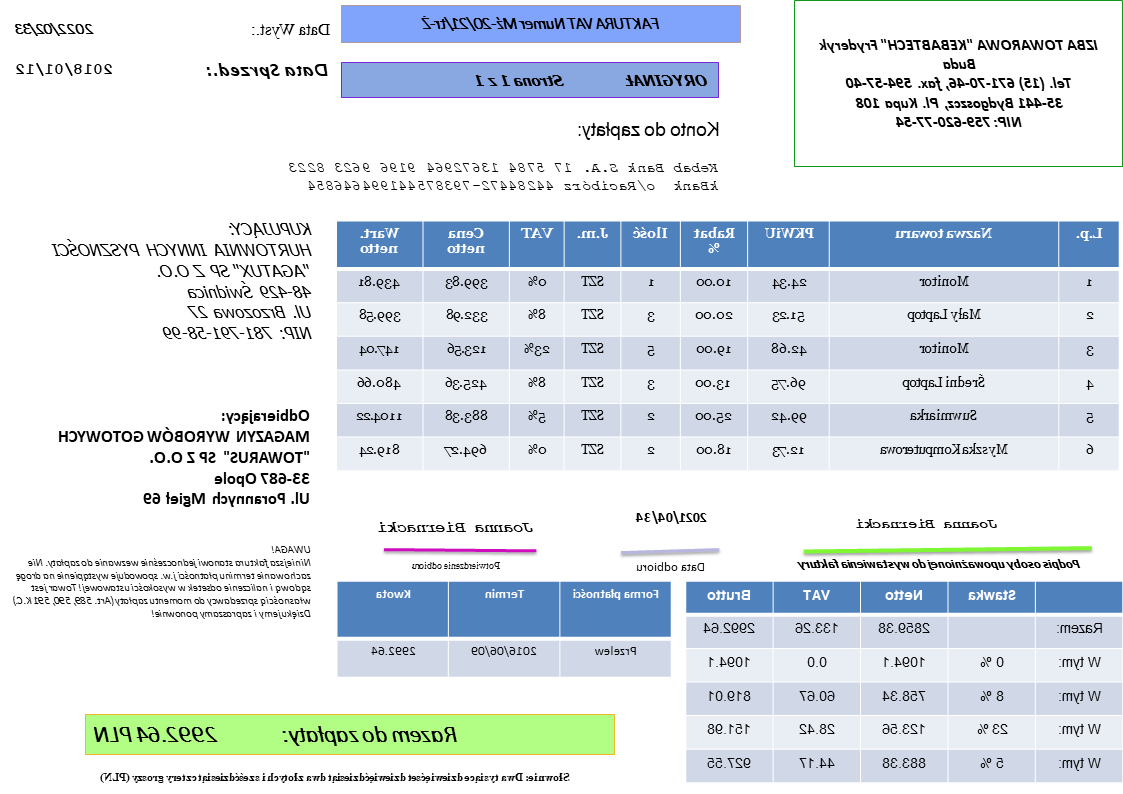Table: (336, 220, 1121, 471), (684, 580, 1122, 783), (337, 581, 672, 678)
TextBox: (50, 218, 315, 343), (816, 36, 1100, 132), (56, 406, 312, 510), (10, 541, 313, 621), (285, 159, 720, 195), (92, 723, 460, 749), (98, 769, 573, 786), (419, 14, 662, 34), (798, 555, 1083, 572), (471, 70, 710, 89), (575, 118, 722, 143), (206, 59, 330, 82), (377, 519, 536, 536), (855, 516, 999, 532), (13, 59, 116, 78), (11, 20, 98, 38), (251, 20, 333, 39), (634, 508, 710, 528), (410, 559, 502, 572), (636, 560, 708, 574)
